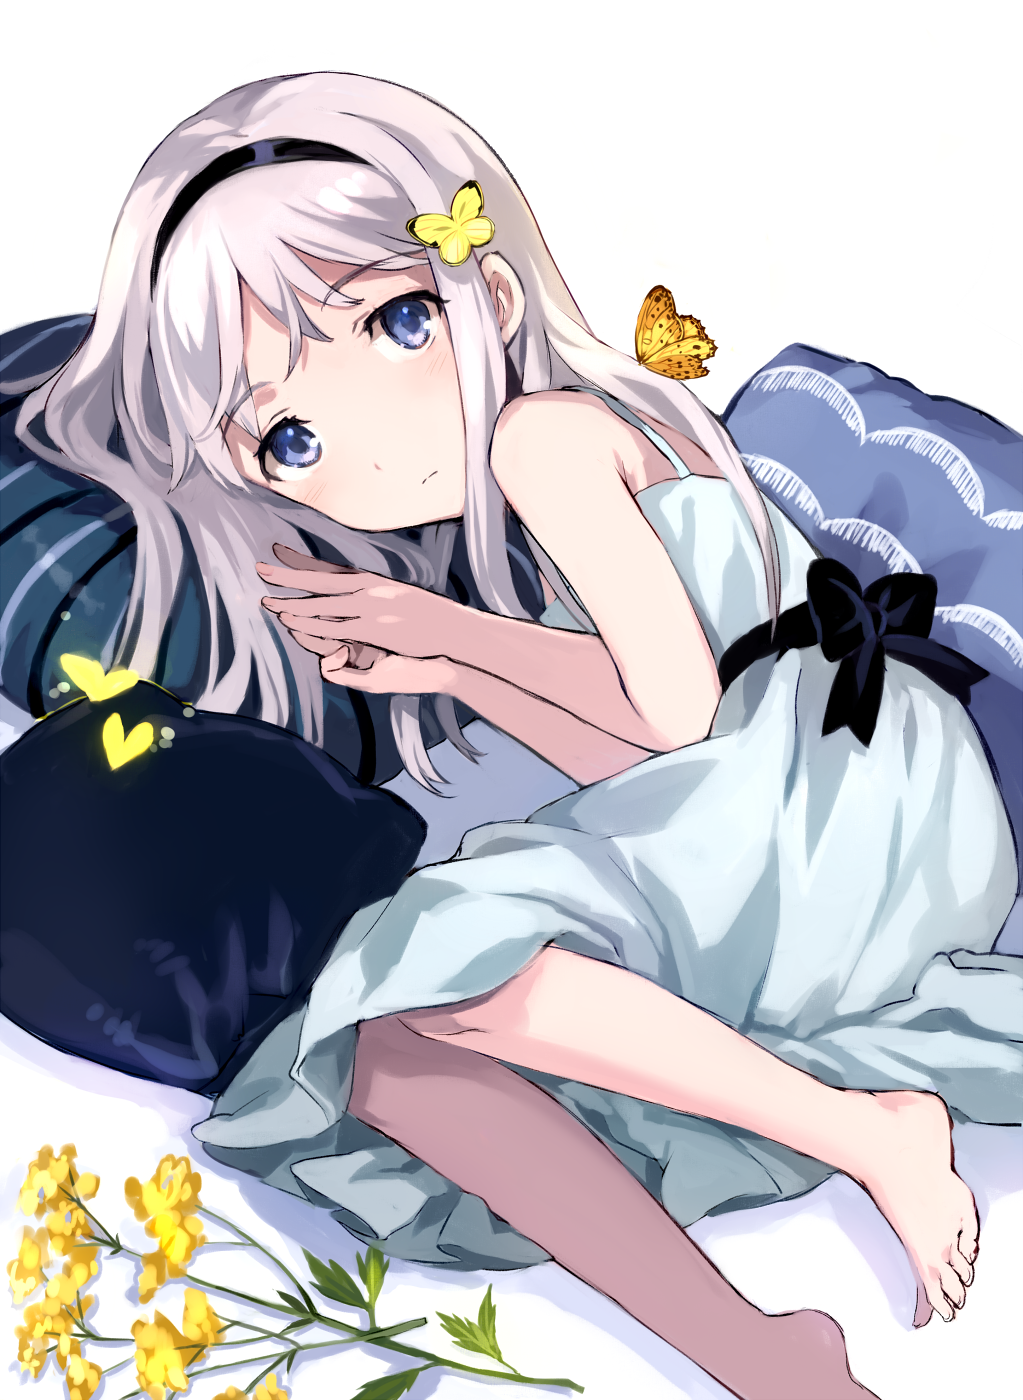纸片人正脸: (93, 66, 547, 540)
